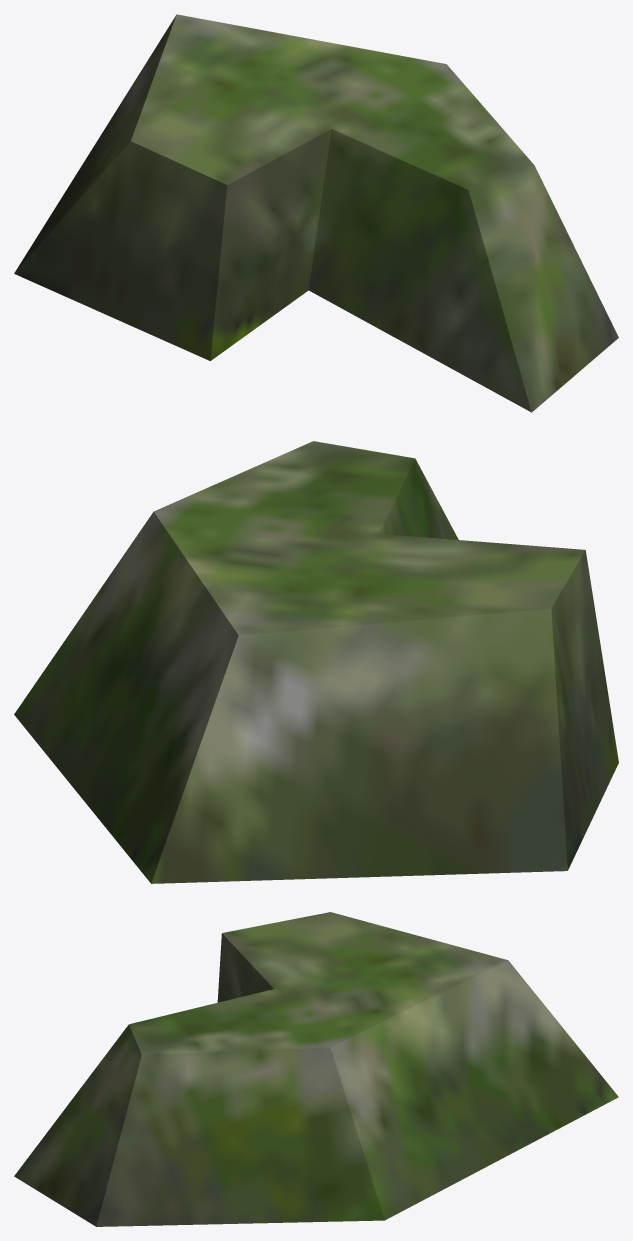
The model's file is 2014_Item_shitou_5.FBX.
The picture shows the model from 3 angles, top to bottom: view 1: azimuth 30°, elevation 25°; view 2: azimuth 150°, elevation 25°; view 3: azimuth 270°, elevation 25°; orthographic projection. The views are drawn at different scales.
Parts seen in each view (by area): view 1: 2014_Item_shitou_5; view 2: 2014_Item_shitou_5; view 3: 2014_Item_shitou_5.
Part boxes in pixels (<box>): 2014_Item_shitou_5: <box>14,14,618,412</box>; 2014_Item_shitou_5: <box>14,441,618,883</box>; 2014_Item_shitou_5: <box>14,912,618,1226</box>.
Bounding box in the file's own units: 143 × 62.49 × 186.
